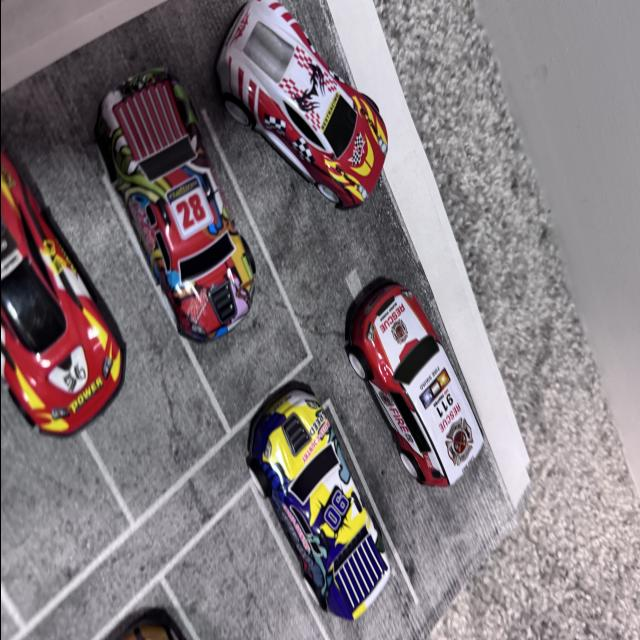Car: (0, 94, 164, 497), (64, 76, 287, 364), (192, 0, 432, 160), (240, 359, 370, 640), (362, 245, 488, 472)
